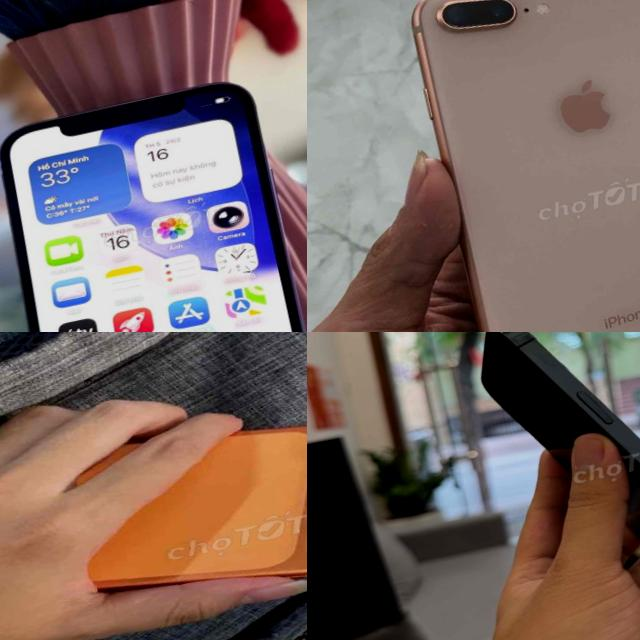gen_12_13: (0, 63, 307, 332), (465, 332, 640, 640)
gen_17: (88, 426, 307, 590)
gen_7_8: (387, 0, 640, 332)
